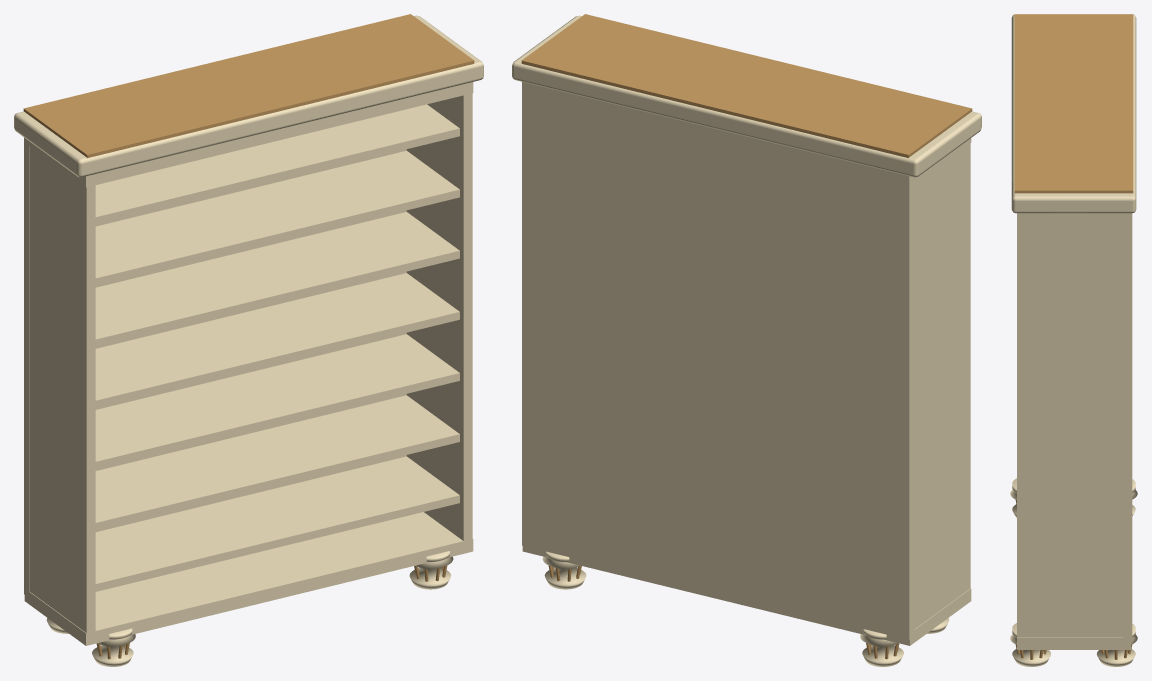
The model's file is bookcase_palais-4911ce2b3e7b.glb.
3 renders of one model, left to right at view 1: azimuth 30°, elevation 25°; view 2: azimuth 150°, elevation 25°; view 3: azimuth 270°, elevation 25°, orthographic. The views are drawn at different scales.
Parts seen in each view (by area): view 1: surface_ivory, surface_brass; view 2: surface_ivory, surface_brass; view 3: surface_ivory, surface_brass.
Part boxes in pixels (x1=…): surface_ivory: x1=14, y1=15, x2=483, y2=666; surface_brass: x1=23, y1=14, x2=474, y2=659; surface_ivory: x1=512, y1=15, x2=981, y2=666; surface_brass: x1=521, y1=14, x2=972, y2=659; surface_ivory: x1=1010, y1=14, x2=1137, y2=666; surface_brass: x1=1014, y1=14, x2=1133, y2=659.
Bounding box in the file's own units: 1.3 × 1.59 × 0.3792.
